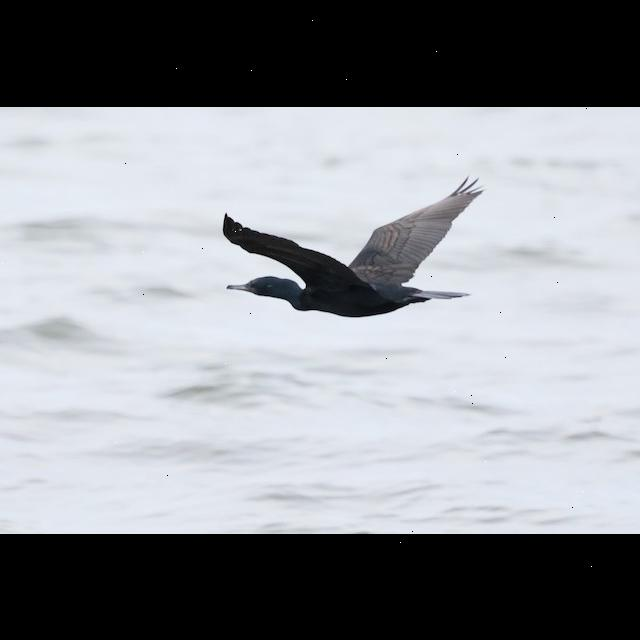cormorant: (220, 171, 490, 319)
